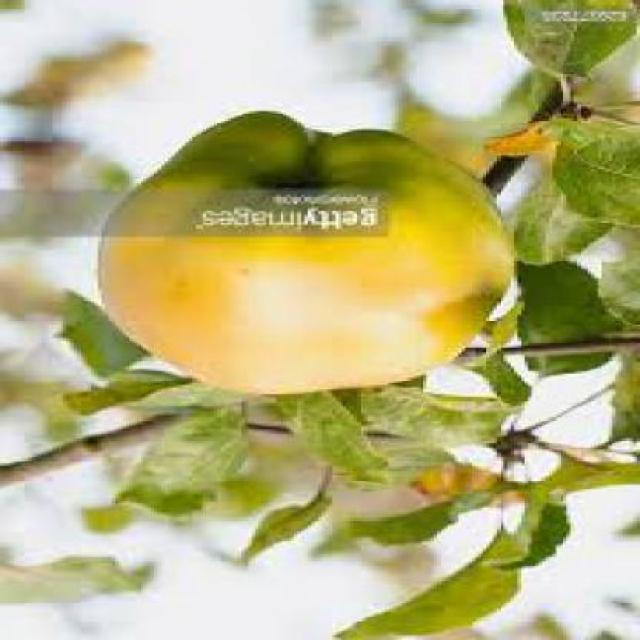BIODEGRADABLE: (100, 112, 514, 392), (335, 458, 640, 639), (355, 351, 530, 476), (461, 260, 640, 379), (116, 408, 248, 516), (505, 0, 640, 76), (274, 392, 388, 481), (554, 119, 640, 225), (482, 84, 562, 197), (515, 178, 610, 263), (60, 291, 148, 377), (241, 492, 331, 562), (64, 371, 192, 414), (349, 502, 452, 543), (412, 462, 498, 496), (612, 354, 640, 438)
